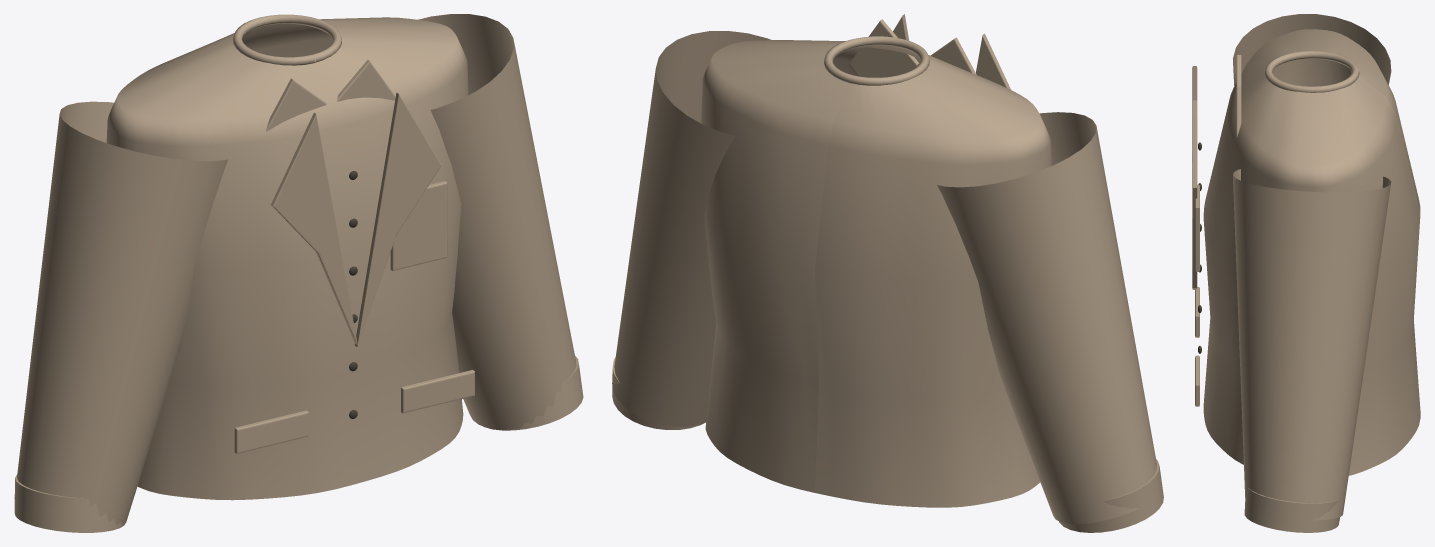
File: veste-atelier-homme.glb
3 renders of one model, left to right at view 1: azimuth 30°, elevation 25°; view 2: azimuth 150°, elevation 25°; view 3: azimuth 270°, elevation 25°, orthographic. The views are drawn at different scales.
Parts seen in each view (by area): view 1: edit-10, long-sleeve (×2); view 2: edit-10, long-sleeve (×2); view 3: edit-10, long-sleeve (×2).
Part boxes in pixels (x1,y1,x2,y2): edit-10: (14, 14, 583, 532); long-sleeve (×2): (14, 14, 576, 524); edit-10: (612, 14, 1163, 532); long-sleeve (×2): (612, 31, 1156, 524); edit-10: (1192, 29, 1420, 532); long-sleeve (×2): (1233, 14, 1391, 520).
Size of the model in its own units: 0.7997 by 0.5891 by 0.3356.
